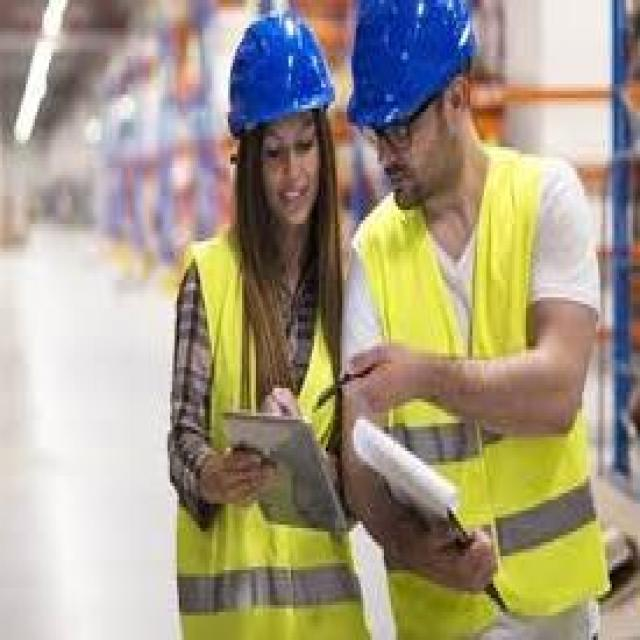Reflective-Jacket: (358, 161, 605, 633), (168, 234, 366, 626)
Safety-Helmet: (342, 3, 487, 140), (221, 10, 338, 144)
